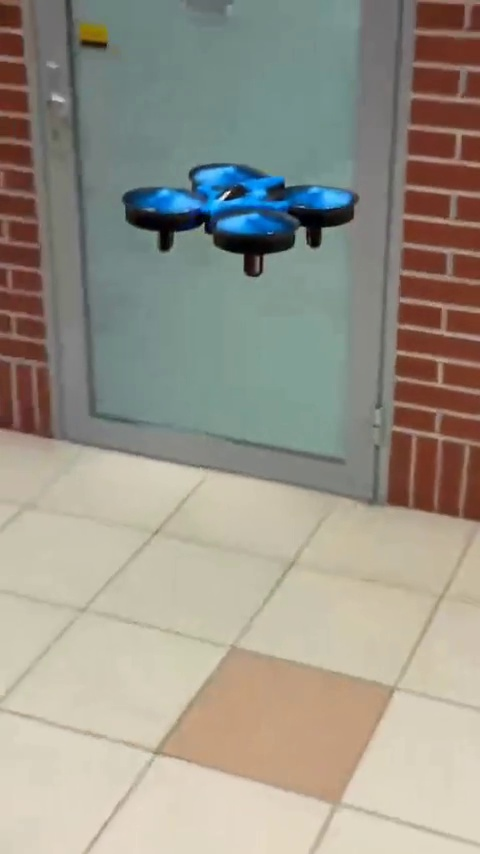drone: (129, 160, 358, 274)
